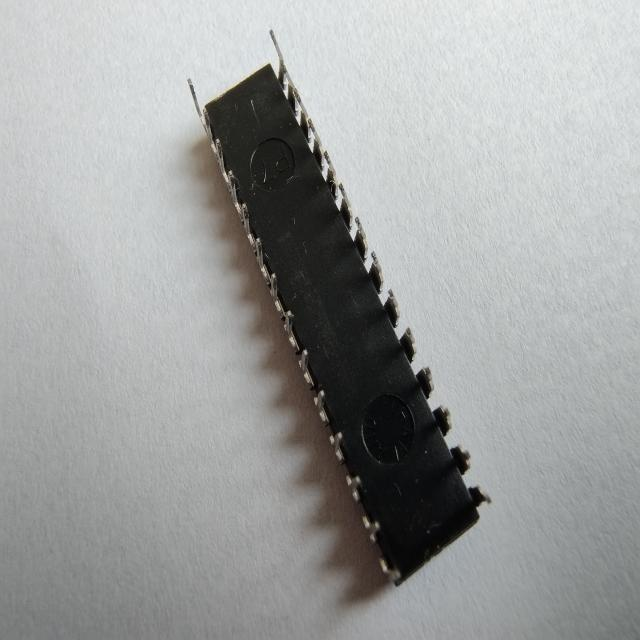atmega: (185, 28, 492, 590)
